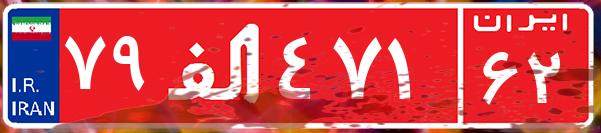1: (385, 28, 445, 110)
2: (525, 38, 570, 115)
4: (273, 28, 330, 110)
6: (475, 38, 525, 113)
7: (330, 28, 385, 110), (57, 26, 110, 107)
9: (110, 28, 158, 105)
الف: (158, 15, 273, 115)
